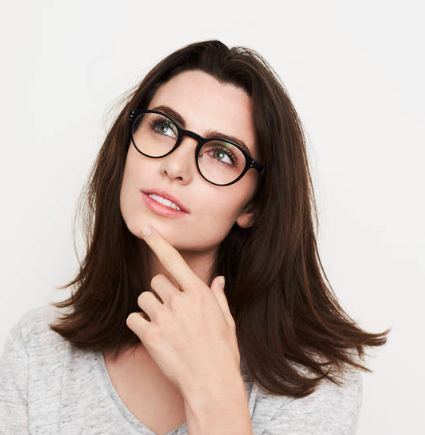glass: (114, 106, 265, 187)
mouth: (130, 182, 202, 223)
